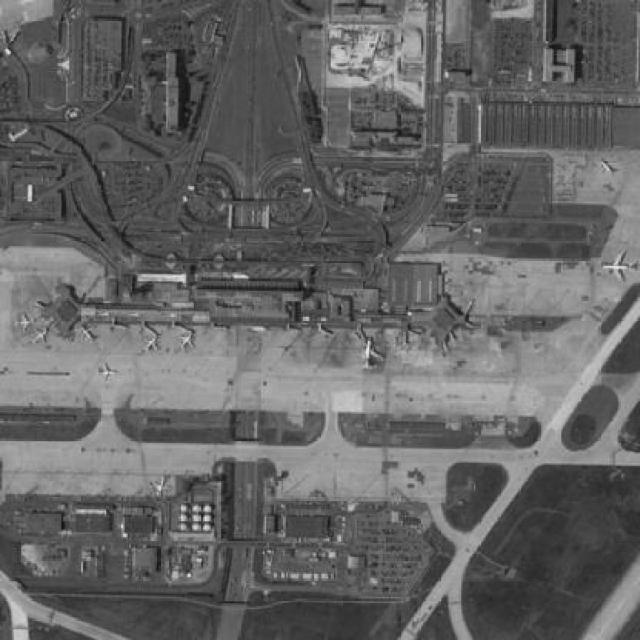airplane: (355, 337, 389, 373), (602, 253, 640, 284), (95, 360, 124, 385), (139, 330, 165, 355), (177, 329, 200, 356), (74, 323, 102, 345), (12, 310, 36, 334), (152, 474, 172, 502), (598, 156, 619, 179), (31, 326, 51, 350)
